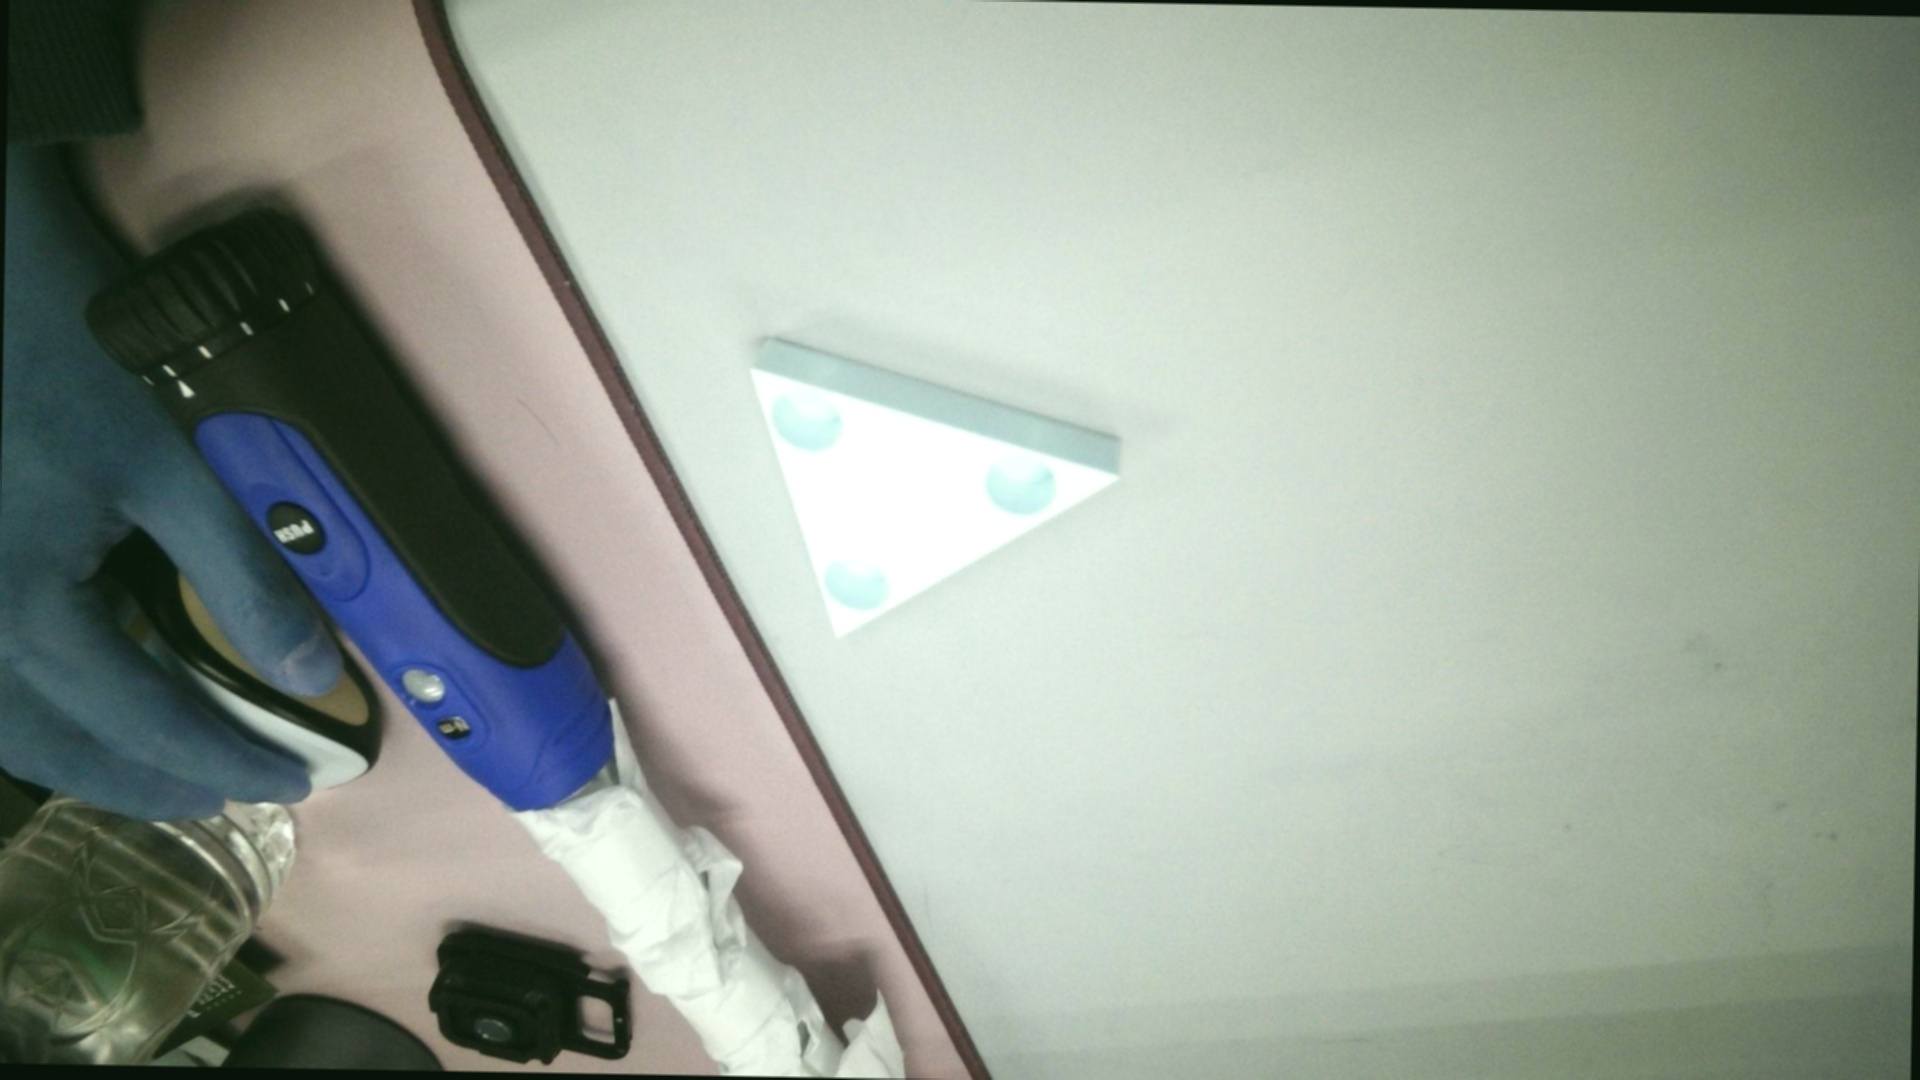hole: (986, 446, 1059, 524), (764, 380, 843, 451), (824, 551, 887, 611)
obj: (724, 307, 1159, 674)
